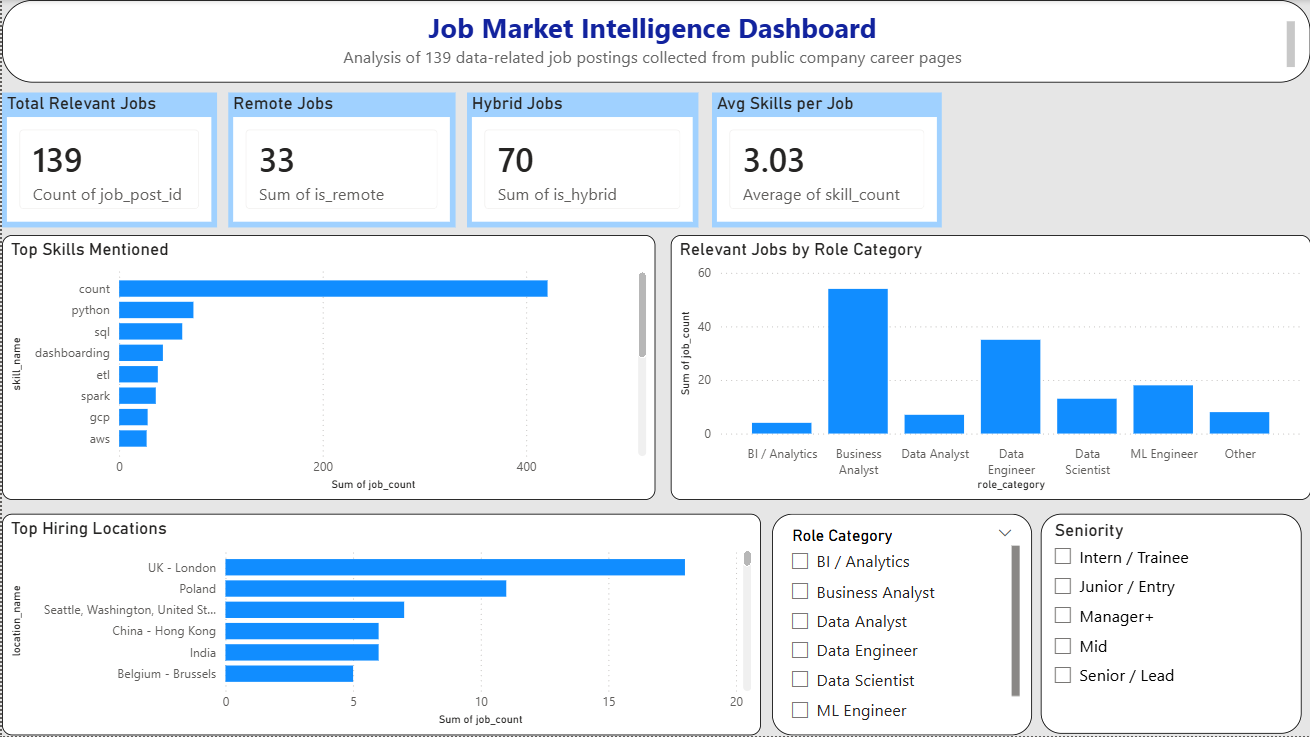

What the dashboard file says about the page in this screenshot:
{"tool":"powerbi","page":{"name":"Overview","canvas":[1280,720],"ordinal":0},"visuals":[{"type":"clusteredBarChart","title":"Top Skills Mentioned","fields":{"Category":["dashboard_skill_summary.skill_name"],"Y":["Sum(dashboard_skill_summary.job_count)"]},"box":[0,244.3,639.5,259.3],"z":0},{"type":"textbox","box":[11,0,743.7,76.8],"z":1000},{"type":"cardVisual","title":"Total Relevant Jobs","fields":{"Data":["Count(dashboard_jobs_detail.job_post_id)"]},"box":[0,90.5,210.3,132.1],"z":2000},{"type":"cardVisual","title":"Remote Jobs","fields":{"Data":["Sum(dashboard_jobs_detail.is_remote)"]},"box":[220.9,90.6,222.3,131.7],"z":3000},{"type":"cardVisual","title":"Hybrid Jobs","fields":{"Data":["Sum(dashboard_jobs_detail.is_hybrid)"]},"box":[454.9,90.5,226.2,132.1],"z":4000},{"type":"cardVisual","title":"Avg Skills per Job","fields":{"Data":["Avg(dashboard_jobs_detail.skill_count)"]},"box":[694.6,90.5,225,132.1],"z":5000},{"type":"clusteredColumnChart","title":"Relevant Jobs by Role Category","fields":{"Category":["dashboard_role_summary.role_category"],"Y":["Sum(dashboard_role_summary.job_count)"]},"box":[654.5,244.3,625.7,259.3],"z":6000},{"type":"clusteredBarChart","title":"Top Hiring Locations","fields":{"Category":["dashboard_location_summary.location_name"],"Y":["Sum(dashboard_location_summary.job_count)"]},"box":[0,503.6,754.7,216.8],"z":6001},{"type":"slicer","fields":{"Values":["dashboard_jobs_detail.role_category"]},"box":[754.7,503.6,263.5,216.8],"z":6002},{"type":"slicer","fields":{"Values":["dashboard_jobs_detail.seniority"]},"box":[1017.4,503.8,262.9,216.4],"z":6003}]}

Visuals, with their boxes in screenshot pixels (x1, y1, x2, y2), scaled from the page's 1280x720 canvas onto the 1310x737 screenshot:
"Top Skills Mentioned" clusteredBarChart: [0,250,654,515]
textbox: [11,0,772,79]
"Total Relevant Jobs" cardVisual: [0,93,215,228]
"Remote Jobs" cardVisual: [226,93,454,228]
"Hybrid Jobs" cardVisual: [466,93,697,228]
"Avg Skills per Job" cardVisual: [711,93,941,228]
"Relevant Jobs by Role Category" clusteredColumnChart: [670,250,1309,515]
"Top Hiring Locations" clusteredBarChart: [0,515,772,736]
slicer - dashboard_jobs_detail.role_category: [772,515,1042,736]
slicer - dashboard_jobs_detail.seniority: [1041,516,1309,736]
